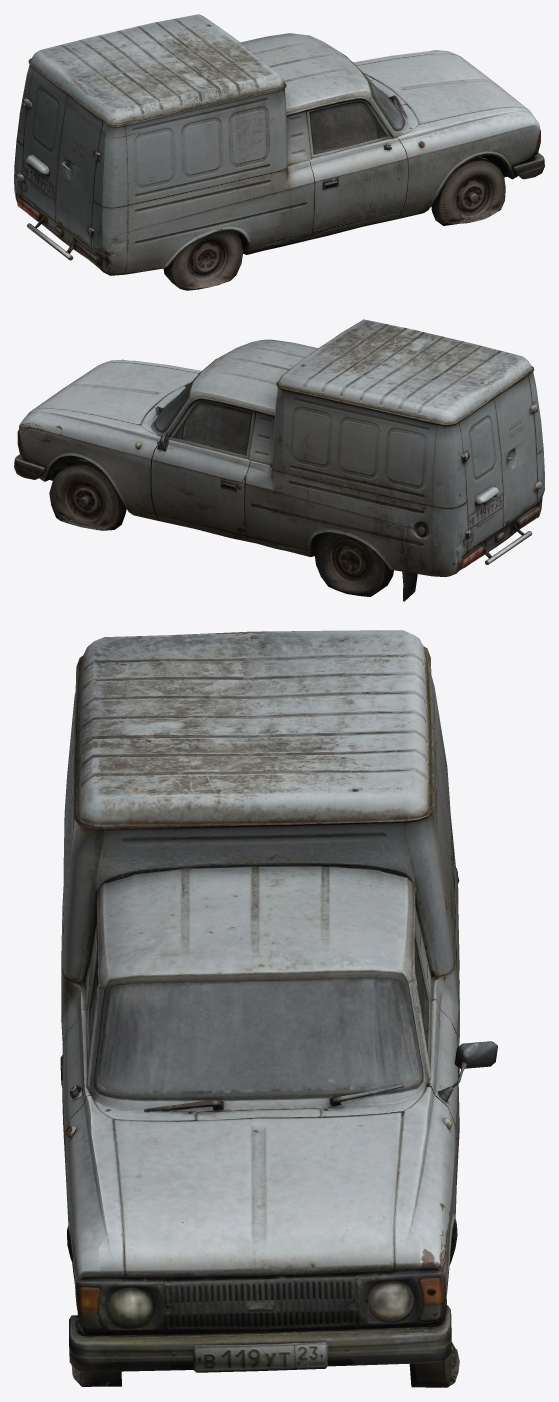
3 renders of one model, top to bottom at view 1: azimuth 30°, elevation 25°; view 2: azimuth 150°, elevation 25°; view 3: azimuth 270°, elevation 25°, orthographic. The views are drawn at different scales.
Parts seen in each view (by area): view 1: Pirozhok001; view 2: Pirozhok001; view 3: Pirozhok001.
Part boxes in pixels (left/top/right/bottom): Pirozhok001: left=14, top=14, right=544, bottom=290; Pirozhok001: left=14, top=319, right=544, bottom=601; Pirozhok001: left=60, top=630, right=497, bottom=1387.
Size of the model in its own units: 162 by 67.29 by 67.59.
Materials: 1 (1 with a texture image).
